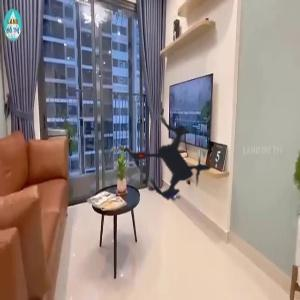drone: (87, 71, 264, 248)
